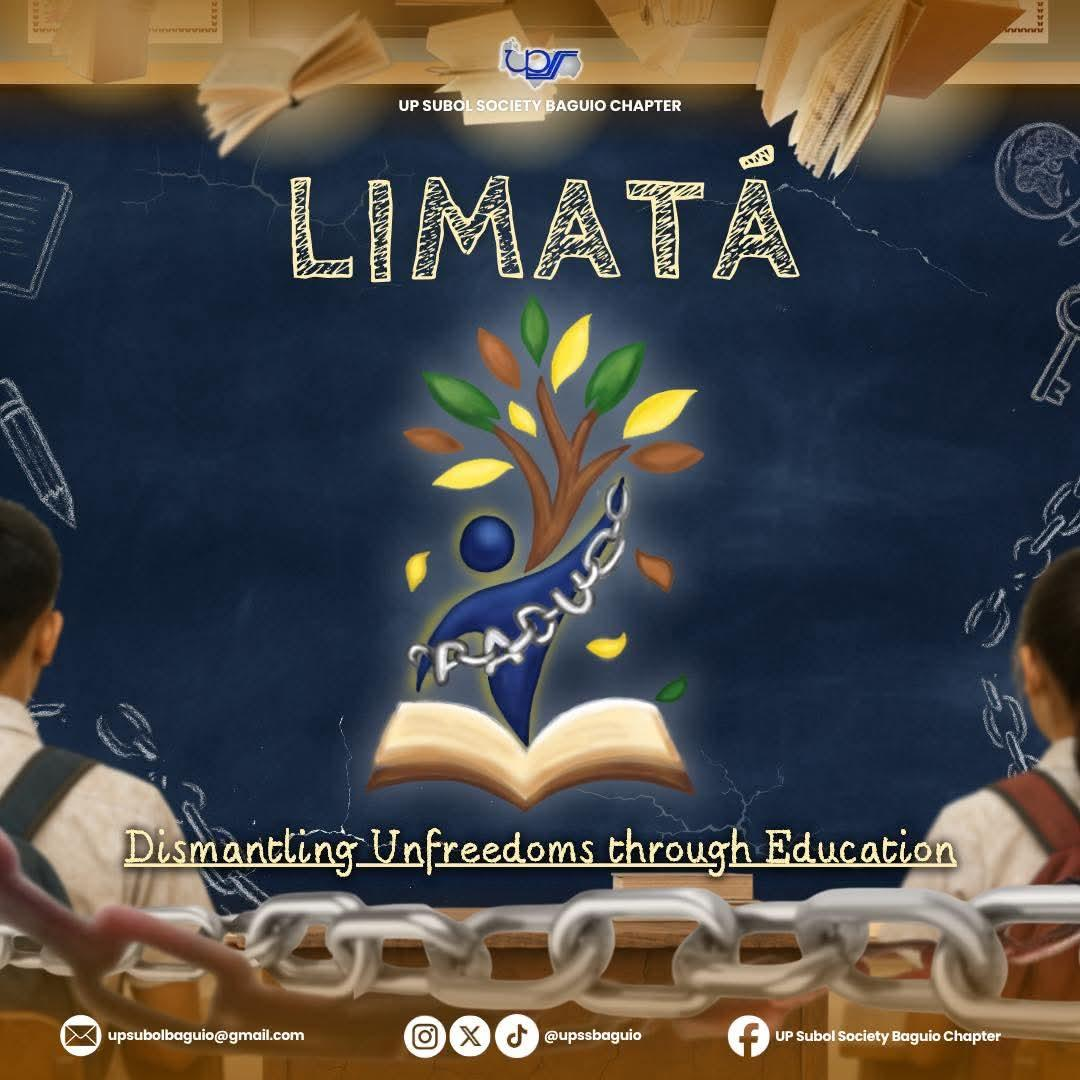embellishment: (361, 291, 709, 814), (397, 1010, 542, 1063), (723, 1011, 774, 1058), (57, 1010, 105, 1058)
logo: (486, 33, 591, 99)
text: (279, 157, 821, 293), (117, 820, 971, 880), (393, 92, 685, 120), (772, 1024, 1005, 1049), (103, 1025, 313, 1045), (540, 1024, 648, 1049)
